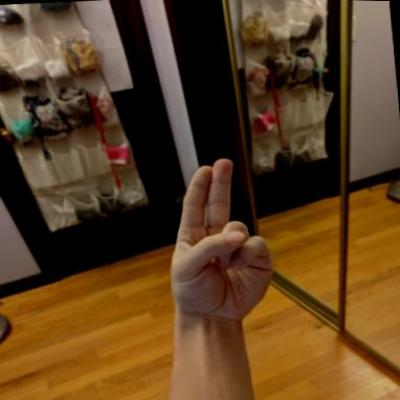hand: (155, 150, 281, 330)
